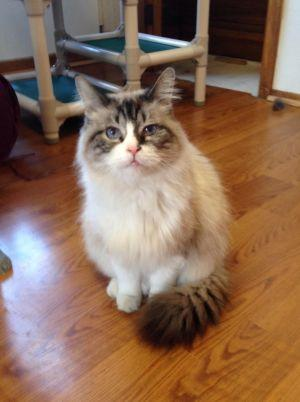ragdoll: (71, 63, 188, 178)
